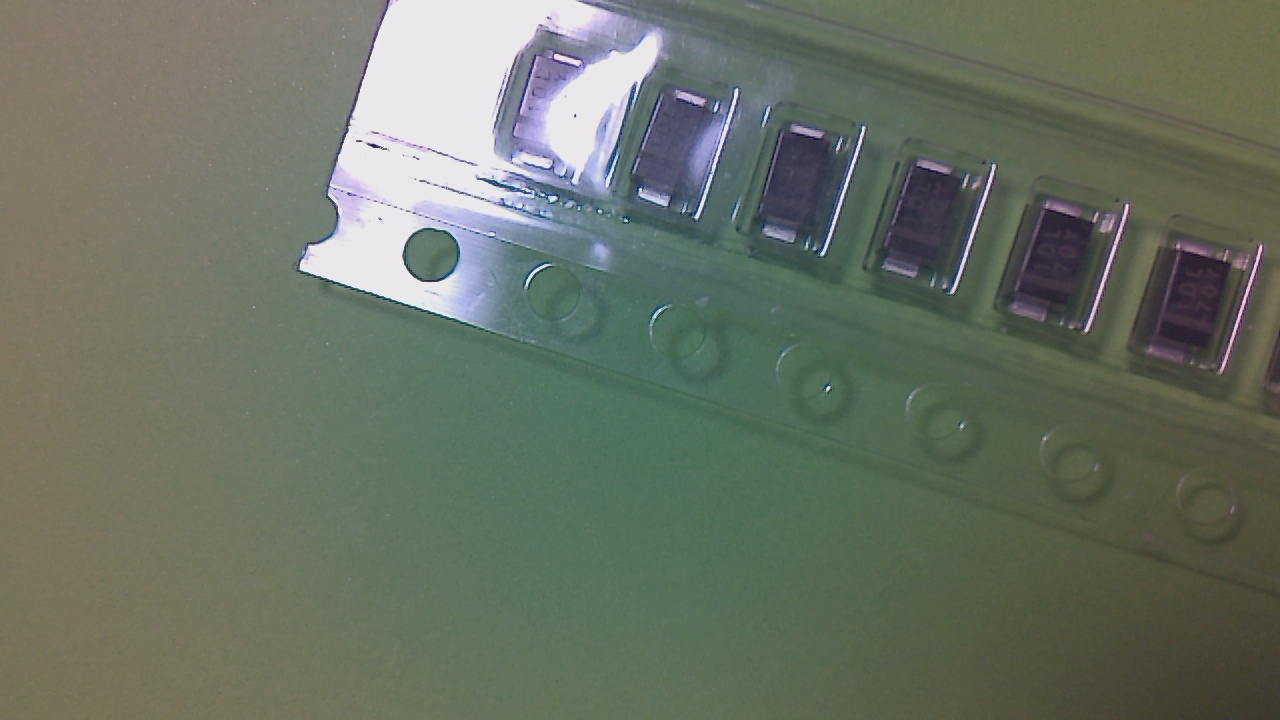Diode: (1146, 246, 1235, 367), (390, 17, 479, 133), (635, 93, 724, 209), (1006, 214, 1095, 327), (883, 168, 969, 284), (755, 128, 835, 247), (515, 56, 592, 172)
